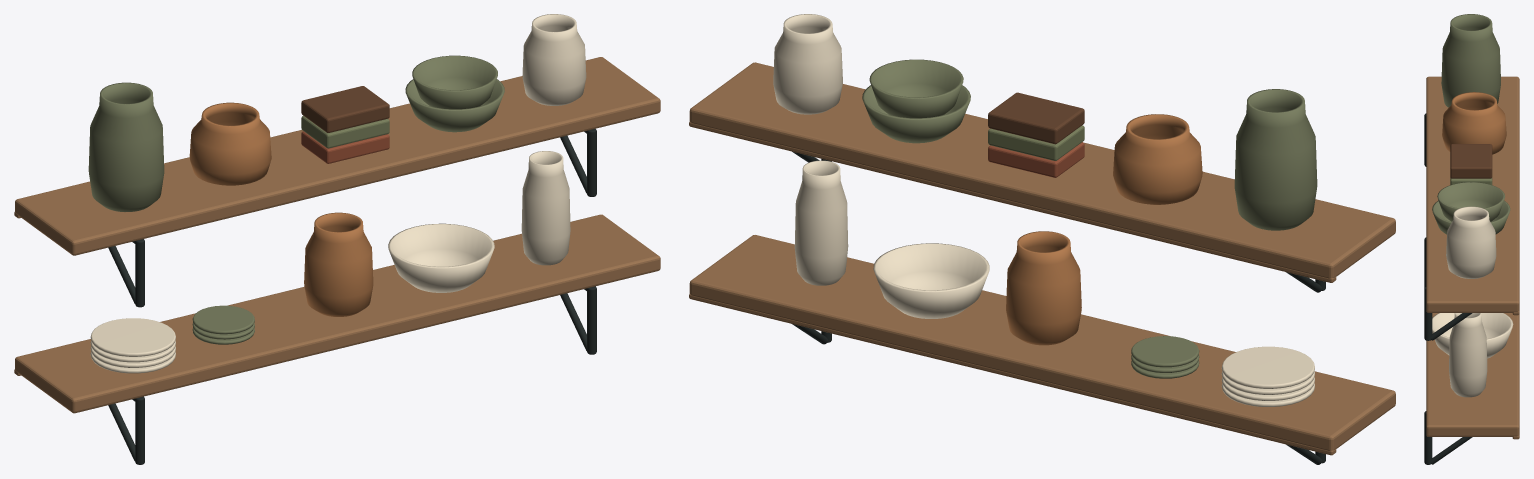
The model's file is wall-shelf.glb.
The picture shows the model from 3 angles, left to right: view 1: azimuth 30°, elevation 25°; view 2: azimuth 150°, elevation 25°; view 3: azimuth 270°, elevation 25°; orthographic projection. The views are drawn at different scales.
Parts seen in each view (by area): view 1: wall-shelf__wood_oak, wall-shelf__ceramic_ivory, wall-shelf__ceramic_sage, wall-shelf__ceramic_ochre, wall-shelf__metal_iron, wall-shelf__wood_walnut, wall-shelf__fabric_terracotta, wall-shelf__fabric_sage; view 2: wall-shelf__wood_oak, wall-shelf__ceramic_ivory, wall-shelf__ceramic_sage, wall-shelf__ceramic_ochre, wall-shelf__wood_walnut, wall-shelf__fabric_sage, wall-shelf__fabric_terracotta, wall-shelf__metal_iron; view 3: wall-shelf__wood_oak, wall-shelf__ceramic_ivory, wall-shelf__ceramic_sage, wall-shelf__ceramic_ochre, wall-shelf__metal_iron, wall-shelf__wood_walnut, wall-shelf__fabric_sage.
Part boxes in pixels (x1,y1,x2,y2): wall-shelf__wood_oak: [14, 57, 660, 413]; wall-shelf__ceramic_ivory: [90, 14, 586, 373]; wall-shelf__ceramic_sage: [88, 55, 504, 344]; wall-shelf__ceramic_ochre: [189, 102, 373, 316]; wall-shelf__metal_iron: [108, 128, 596, 464]; wall-shelf__wood_walnut: [301, 86, 389, 132]; wall-shelf__fabric_terracotta: [301, 131, 389, 163]; wall-shelf__fabric_sage: [301, 115, 389, 148]; wall-shelf__wood_oak: [689, 62, 1395, 455]; wall-shelf__ceramic_ivory: [773, 14, 1314, 406]; wall-shelf__ceramic_sage: [862, 59, 1317, 378]; wall-shelf__ceramic_ochre: [1006, 114, 1202, 345]; wall-shelf__wood_walnut: [988, 92, 1084, 144]; wall-shelf__fabric_sage: [988, 125, 1084, 160]; wall-shelf__fabric_terracotta: [988, 142, 1084, 177]; wall-shelf__metal_iron: [792, 151, 1325, 464]; wall-shelf__wood_oak: [1426, 76, 1519, 439]; wall-shelf__ceramic_ivory: [1432, 206, 1513, 397]; wall-shelf__ceramic_sage: [1432, 14, 1510, 234]; wall-shelf__ceramic_ochre: [1442, 92, 1506, 154]; wall-shelf__metal_iron: [1424, 113, 1472, 464]; wall-shelf__wood_walnut: [1450, 144, 1492, 178]; wall-shelf__fabric_sage: [1450, 177, 1492, 184].
Size of the model in its own units: 1.72 by 0.9689 by 0.3055.
